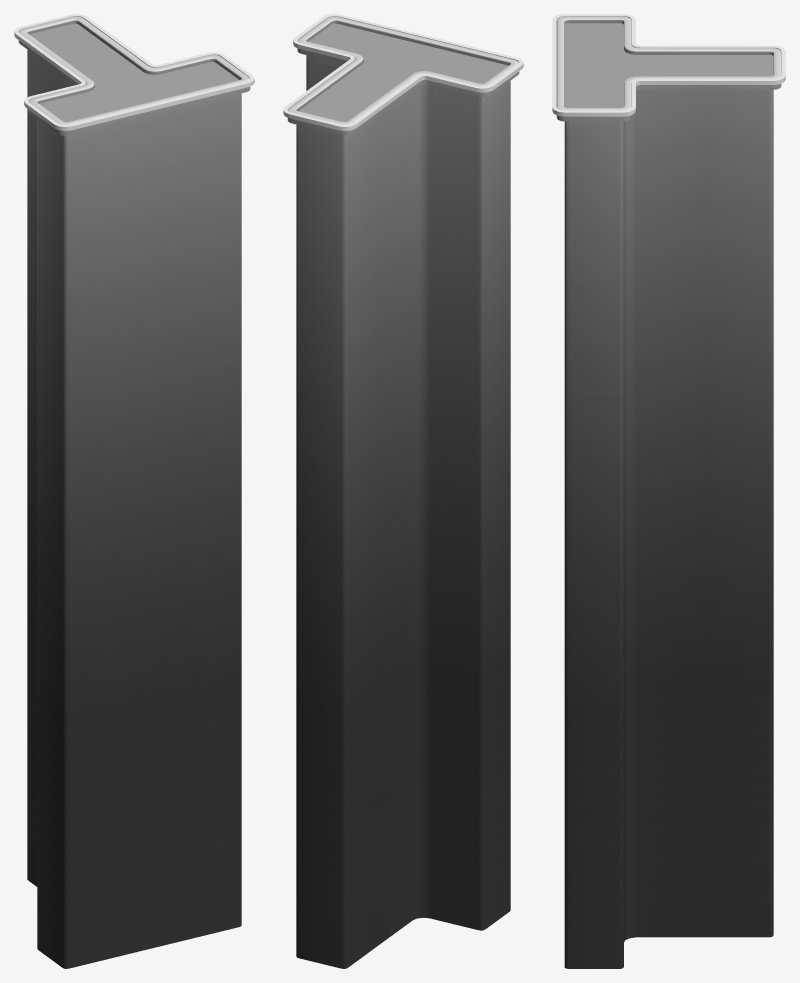
Rendered from BLOCK_3D_T.fbx.
3 views of the same model, side by side, from view 1: azimuth 30°, elevation 25°; view 2: azimuth 150°, elevation 25°; view 3: azimuth 270°, elevation 25° (orthographic).
Parts seen in each view (by area): view 1: T_5_1, T_5_1.001, OUTLINE; view 2: T_5_1, T_5_1.001, OUTLINE; view 3: T_5_1, T_5_1.001, OUTLINE.
Boxes of the visible parts, bbox=[...] form: T_5_1: bbox=[18, 16, 250, 968]; T_5_1.001: bbox=[27, 23, 241, 140]; OUTLINE: bbox=[14, 14, 254, 130]; T_5_1: bbox=[287, 16, 519, 968]; T_5_1.001: bbox=[296, 23, 510, 140]; OUTLINE: bbox=[283, 14, 523, 130]; T_5_1: bbox=[556, 16, 781, 968]; T_5_1.001: bbox=[564, 23, 773, 127]; OUTLINE: bbox=[552, 14, 785, 116].
Bounding box in the file's own units: 312 × 1270 × 312.
